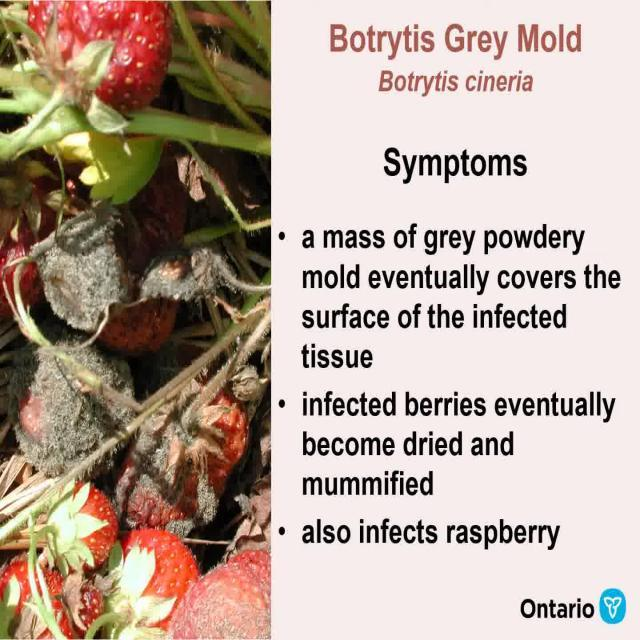Moho gris: (121, 372, 252, 538), (34, 210, 184, 352), (3, 312, 141, 466), (185, 557, 273, 640)
